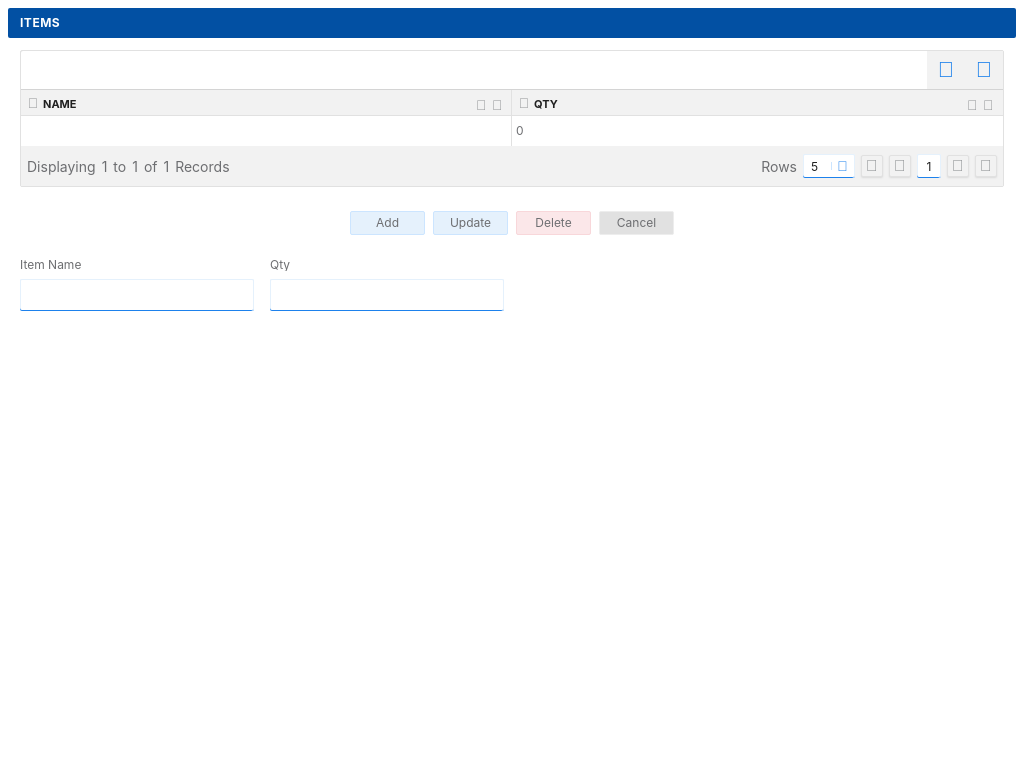
it: FormRenderer › submit: when a DataTable row is active, its fields are validated and errors reported
The width and height of the screenshot is (1024, 768).
Click the row with test id "row-0" at (512, 131), box [21,116,1003,146]
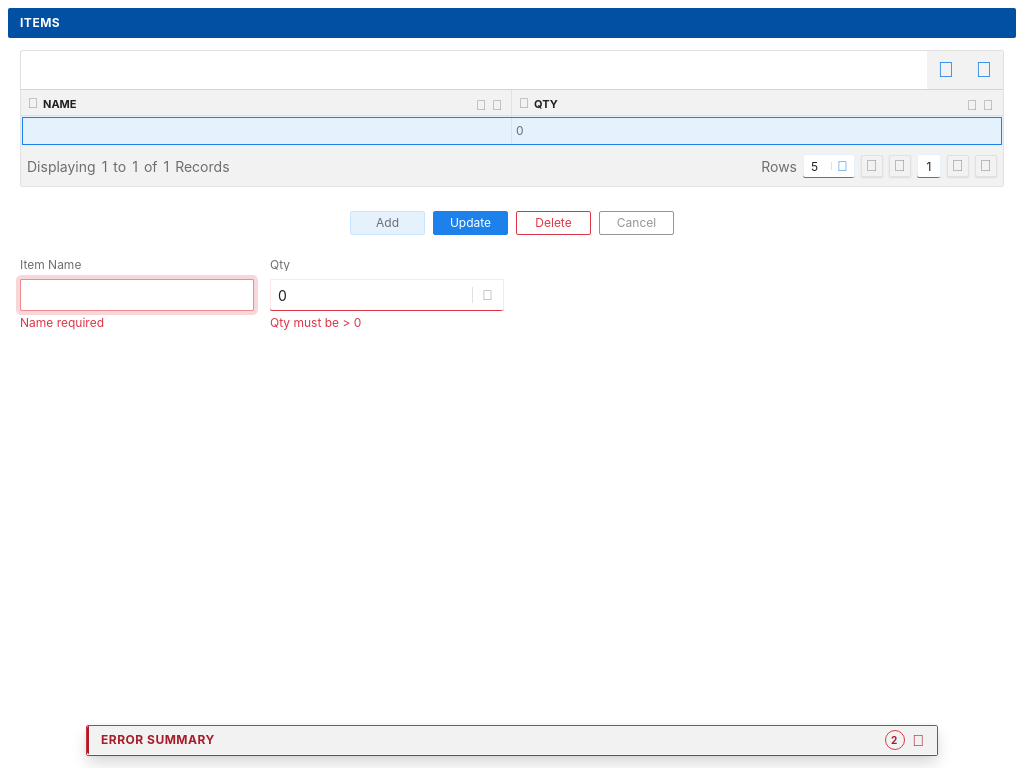
Expected: the field with test id "text-items-0-name" is shown, [20,279,254,311]
